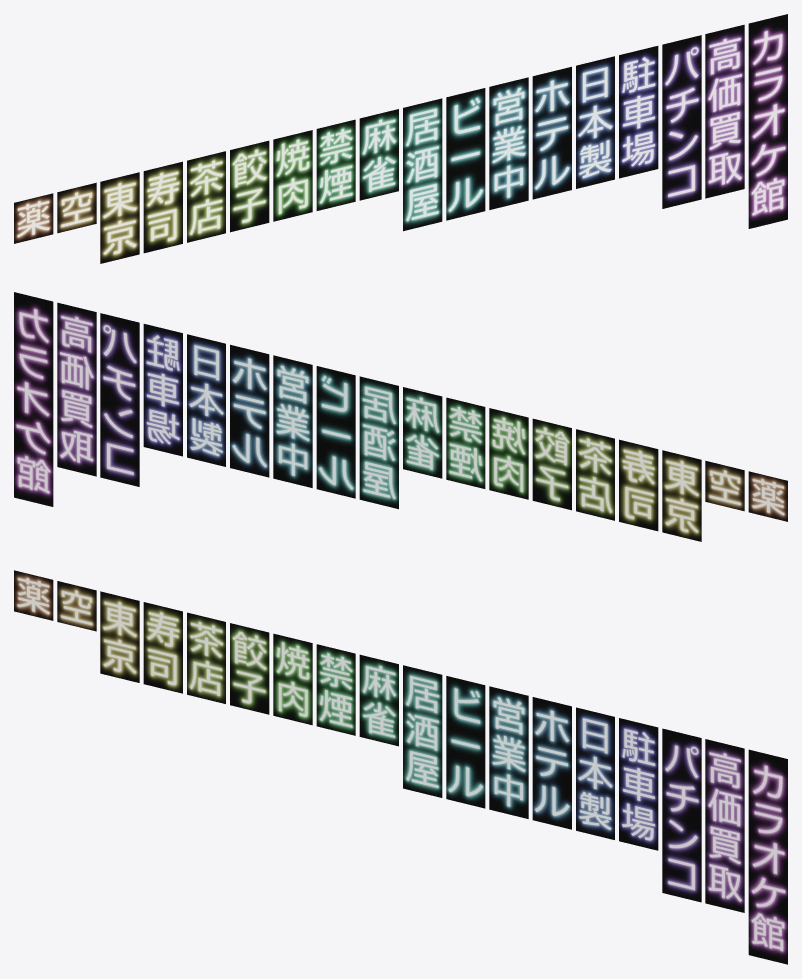
The model's file is neon_signs.glb.
3 views of the same model, one above another, from view 1: azimuth 30°, elevation 25°; view 2: azimuth 150°, elevation 25°; view 3: azimuth 330°, elevation 25° (orthographic).
Parts seen in each view (by area): view 1: sign.017, sign.015, sign.016, sign.009, sign.012, sign.014, sign.010, sign.011, sign.013, sign.002, sign.006, sign.008 (+6 smaller); view 2: sign.017, sign.015, sign.016, sign.009, sign.012, sign.014, sign.010, sign.011, sign.013, sign.002, sign.006, sign.008 (+6 smaller); view 3: sign.017, sign.015, sign.016, sign.014, sign.011, sign.012, sign.009, sign.010, sign.013, sign.002, sign.003, sign.005 (+6 smaller).
Boxes of the visible parts, x1,y1,x2,y2 form: sign.017: [748, 14, 787, 228]; sign.015: [662, 35, 701, 208]; sign.016: [705, 24, 744, 198]; sign.009: [403, 98, 442, 231]; sign.012: [532, 66, 571, 199]; sign.014: [619, 46, 658, 178]; sign.010: [446, 88, 485, 220]; sign.011: [489, 77, 528, 209]; sign.013: [576, 56, 614, 188]; sign.002: [100, 172, 139, 263]; sign.006: [273, 130, 312, 221]; sign.008: [359, 109, 398, 200]; sign.017: [14, 292, 53, 506]; sign.015: [100, 313, 139, 486]; sign.016: [57, 302, 96, 476]; sign.009: [359, 376, 398, 509]; sign.012: [230, 344, 269, 477]; sign.014: [143, 324, 182, 456]; sign.010: [316, 366, 355, 498]; sign.011: [273, 355, 312, 487]; sign.013: [187, 334, 225, 466]; sign.002: [662, 450, 701, 541]; sign.006: [489, 408, 528, 499]; sign.008: [403, 387, 442, 478]; sign.017: [748, 749, 787, 964]; sign.015: [662, 728, 701, 902]; sign.016: [705, 739, 744, 912]; sign.014: [619, 718, 658, 850]; sign.011: [489, 686, 528, 818]; sign.012: [532, 697, 571, 829]; sign.009: [403, 665, 442, 797]; sign.010: [446, 676, 485, 808]; sign.013: [576, 707, 614, 839]; sign.002: [100, 591, 139, 682]; sign.003: [143, 602, 182, 693]; sign.005: [230, 623, 269, 714].
Size of the model in its own units: 3940 by 1000 by 0.
18 materials, 18 textured.
